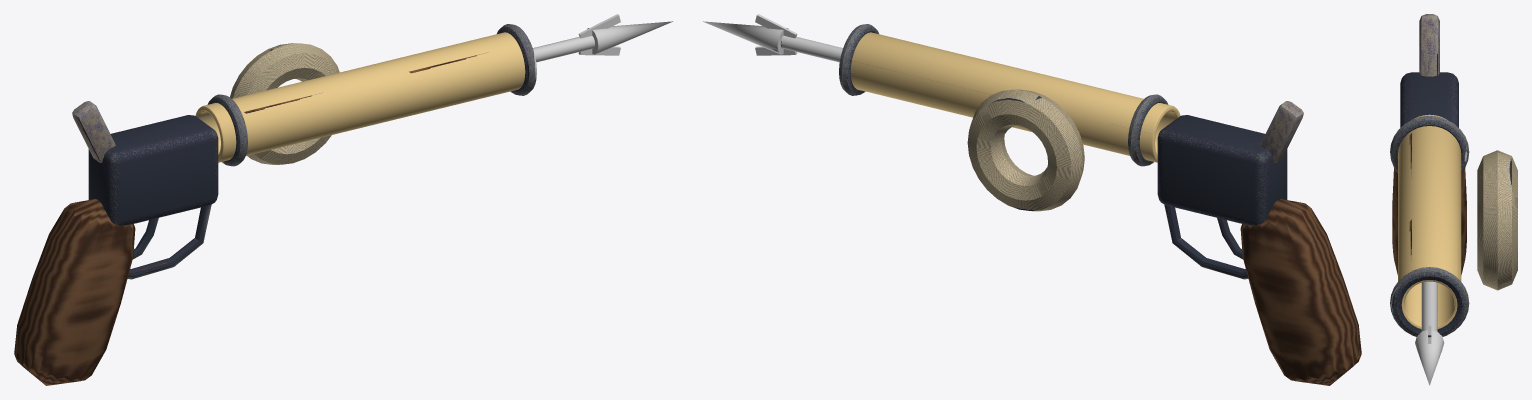
The model's file is harpistol.glb.
3 renders of one model, left to right at view 1: azimuth 30°, elevation 25°; view 2: azimuth 150°, elevation 25°; view 3: azimuth 270°, elevation 25°, orthographic. The views are drawn at different scales.
Visible parts, largest first — view 1: barrel, grip, frame, rope_coil, hammer, trigger_guard, harpoon_head, breech_band, muzzle_band, harpoon; view 2: grip, barrel, frame, rope_coil, hammer, trigger_guard, harpoon_head, breech_band, muzzle_band, harpoon; view 3: barrel, rope_coil, frame, muzzle_band, hammer, breech_band, grip, harpoon_head, harpoon.
Part boxes in pixels (box(x1,y1,x2,y2)): barrel: box(195, 32, 525, 162); grip: box(14, 199, 135, 385); frame: box(88, 115, 218, 225); rope_coil: box(230, 43, 339, 164); hammer: box(72, 101, 115, 162); trigger_guard: box(127, 204, 211, 279); harpoon_head: box(587, 21, 672, 54); breech_band: box(207, 94, 247, 166); muzzle_band: box(497, 24, 536, 95); harpoon: box(533, 36, 594, 62); grip: box(1240, 199, 1361, 385); barrel: box(850, 32, 1180, 162); frame: box(1157, 115, 1287, 225); rope_coil: box(967, 89, 1084, 211); hammer: box(1260, 101, 1303, 162); trigger_guard: box(1164, 204, 1248, 279); harpoon_head: box(703, 21, 788, 54); breech_band: box(1128, 94, 1168, 166); muzzle_band: box(839, 24, 878, 95); harpoon: box(781, 36, 842, 62); barrel: box(1398, 114, 1461, 328); rope_coil: box(1477, 150, 1517, 290); frame: box(1400, 72, 1458, 127); muzzle_band: box(1390, 267, 1469, 336); hammer: box(1419, 14, 1439, 76); breech_band: box(1390, 116, 1469, 172); grip: box(1392, 168, 1466, 274); harpoon_head: box(1415, 330, 1444, 385); harpoon: box(1421, 281, 1437, 331).
Size of the model in its own units: 0.3573 by 0.1424 by 0.0565.
1 material, 1 textured.
